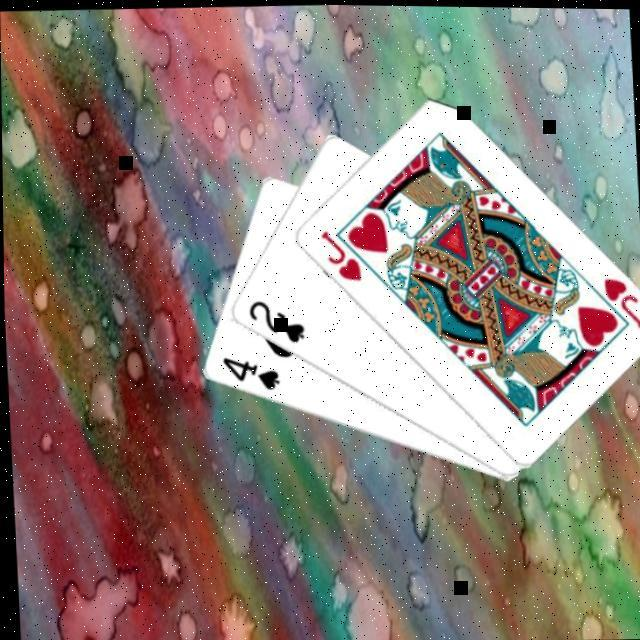2S: (241, 293, 306, 345)
4S: (216, 351, 279, 394)
JH: (314, 224, 363, 283), (596, 269, 640, 329)
